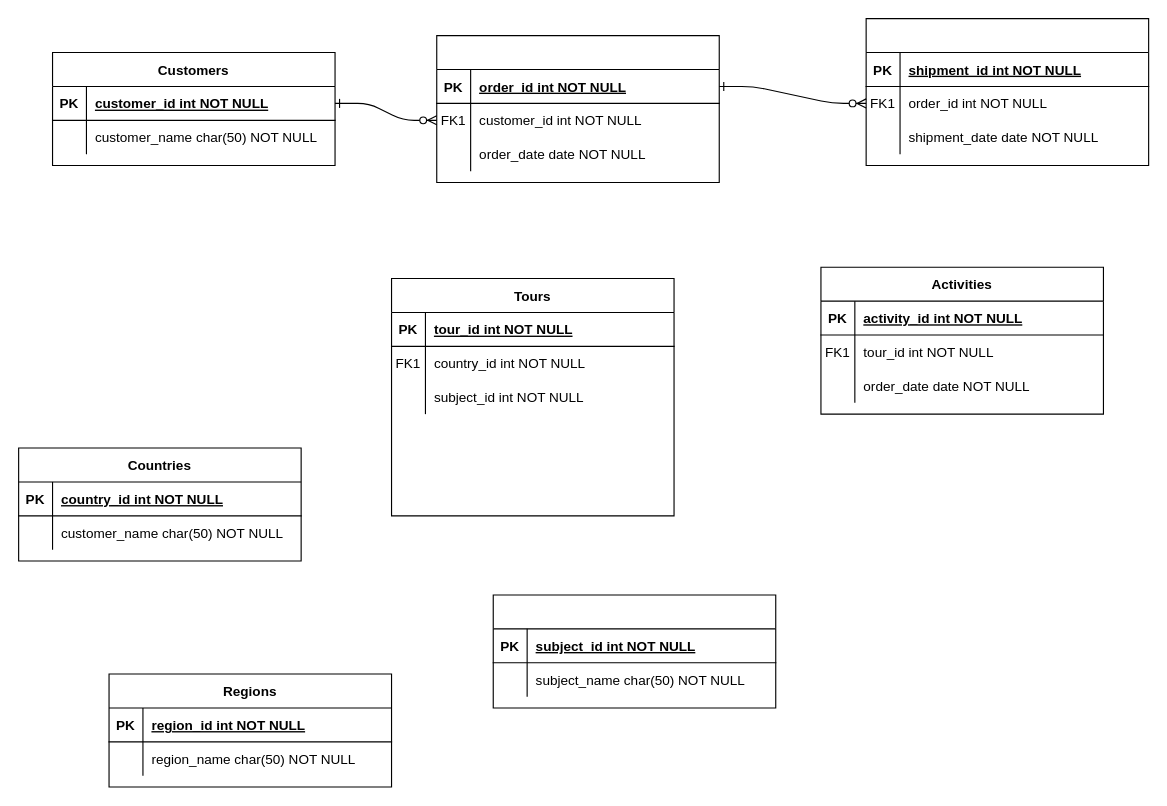
Image size: 1167x806. Some labels were removed from this diagram. Here are the shapes that lost their labels. From the top down, the box of each, then its label:
(436, 34, 719, 182): Orders
(865, 18, 1149, 166): Shipments
(492, 594, 776, 708): Subjects
